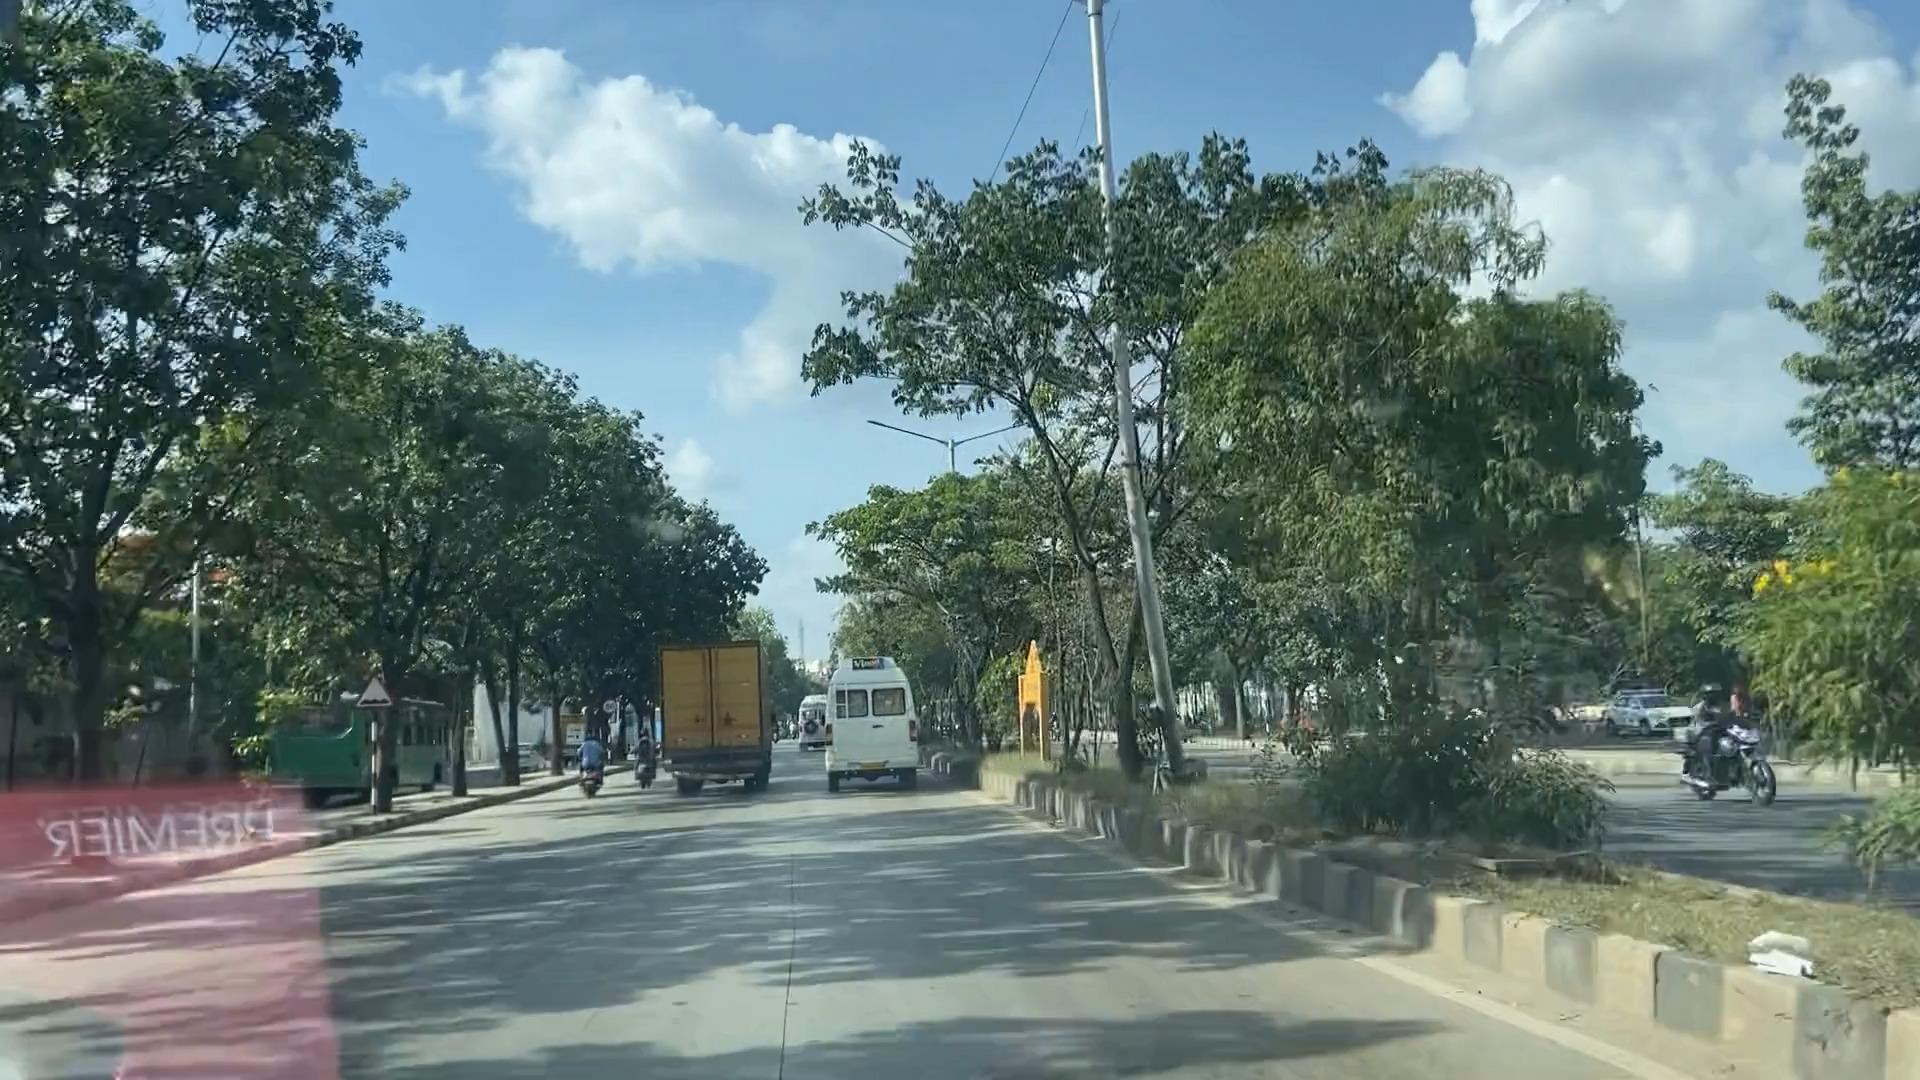HMV: (644, 640, 773, 804), (803, 675, 920, 803)
